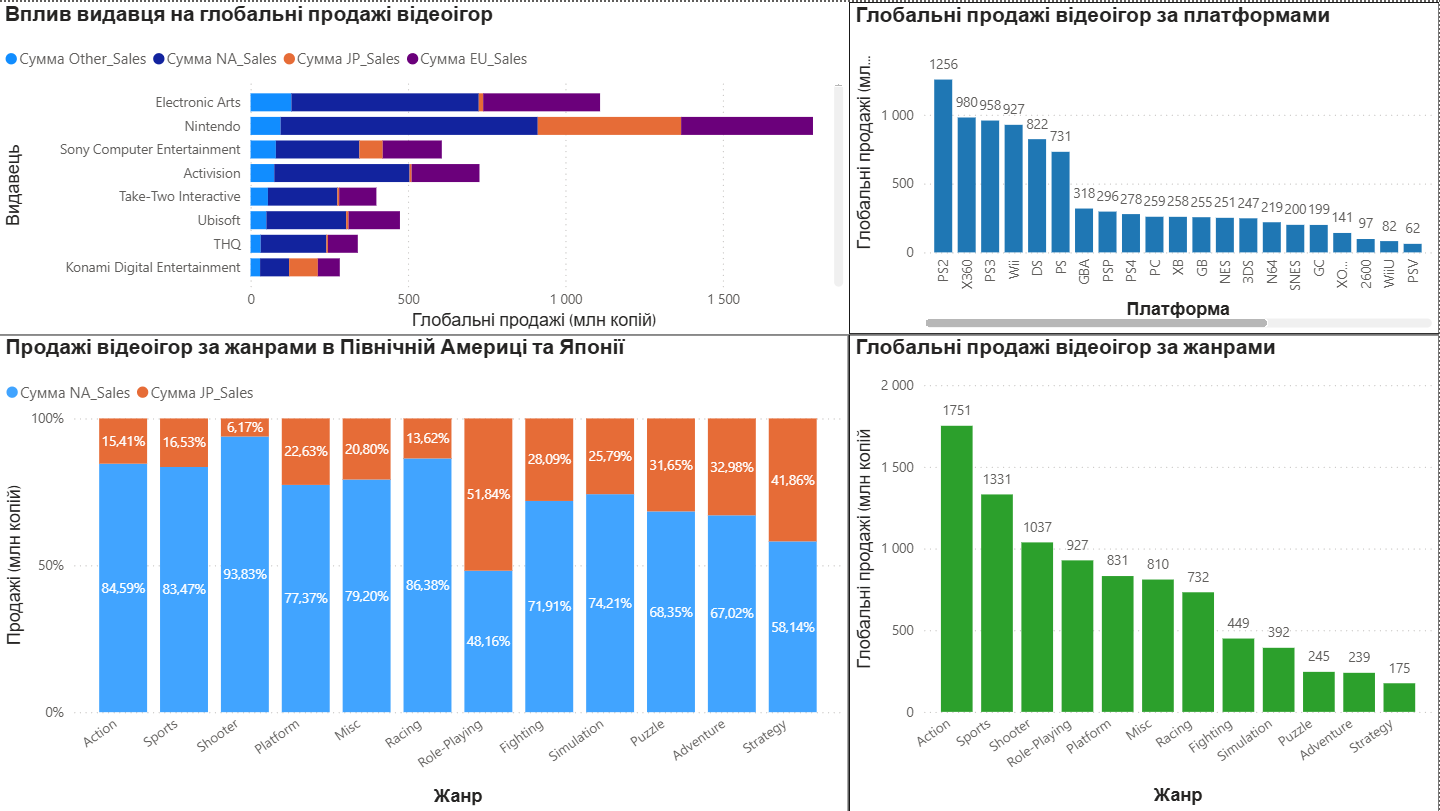

Layout of this report page (visuals, bound fields, positions):
{"tool":"powerbi","page":{"name":"Страница 1","canvas":[1280,720],"ordinal":0},"visuals":[{"type":"hundredPercentStackedColumnChart","title":"Продажі відеоігор за жанрами в Північній Америці та Японії","fields":{"Category":["PROJECT GAMEDEV -  CLEANDATA.Genre"],"Y":["Sum(PROJECT GAMEDEV -  CLEANDATA.NA_Sales)","Sum(PROJECT GAMEDEV -  CLEANDATA.JP_Sales)"]},"box":[0,295.6,755.6,424.4],"z":0},{"type":"clusteredColumnChart","title":"Глобальні продажі відеоігор за жанрами","fields":{"Category":["PROJECT GAMEDEV -  CLEANDATA.Genre"],"Y":["Sum(PROJECT GAMEDEV -  CLEANDATA.Global_Sales)"]},"box":[755.6,295.6,524.4,424.4],"z":1},{"type":"clusteredColumnChart","title":"Глобальні продажі відеоігор за платформами","fields":{"Category":["PROJECT GAMEDEV -  CLEANDATA.Platform"],"Y":["Sum(PROJECT GAMEDEV -  CLEANDATA.Global_Sales)"]},"box":[755.6,0,524.4,295.6],"z":2},{"type":"barChart","title":"Вплив видавця на глобальні продажі відеоігор","fields":{"Category":["PROJECT GAMEDEV -  CLEANDATA.Publisher"],"Y":["Sum(PROJECT GAMEDEV -  CLEANDATA.Other_Sales)","Sum(PROJECT GAMEDEV -  CLEANDATA.NA_Sales)","Sum(PROJECT GAMEDEV -  CLEANDATA.JP_Sales)","Sum(PROJECT GAMEDEV -  CLEANDATA.EU_Sales)"]},"box":[0,0,755.6,295.6],"z":3}]}

Visuals, with their boxes in screenshot pixels (x1, y1, x2, y2), scaled from the page's 1280x720 canvas onto the 1440x811 screenshot:
"Продажі відеоігор за жанрами в Північній Америці та Японії" hundredPercentStackedColumnChart: crop(0, 333, 850, 810)
"Глобальні продажі відеоігор за жанрами" clusteredColumnChart: crop(850, 333, 1439, 810)
"Глобальні продажі відеоігор за платформами" clusteredColumnChart: crop(850, 0, 1439, 333)
"Вплив видавця на глобальні продажі відеоігор" barChart: crop(0, 0, 850, 333)
